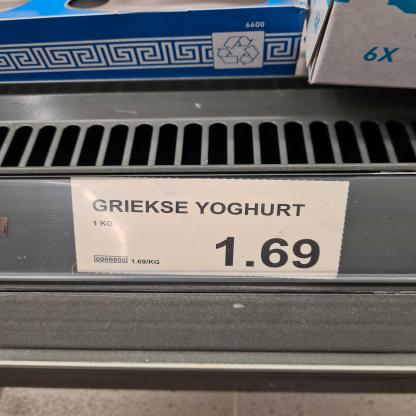prtg: (70, 178, 350, 280)
